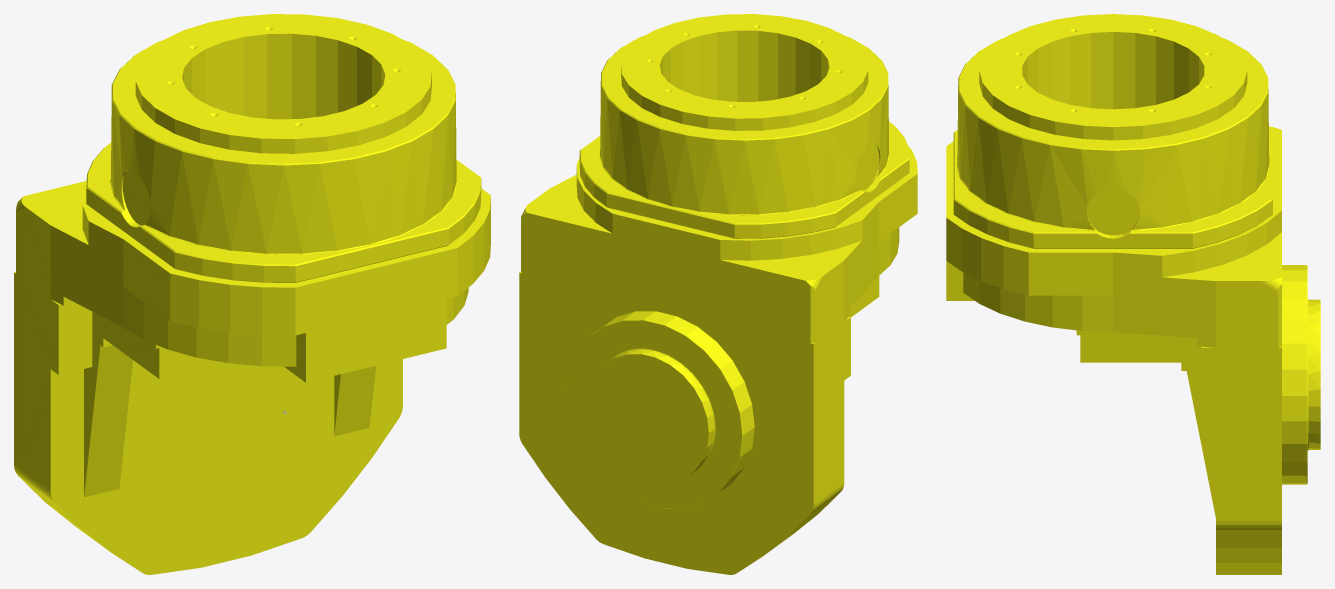
3 renders of one model, left to right at view 1: azimuth 30°, elevation 25°; view 2: azimuth 150°, elevation 25°; view 3: azimuth 270°, elevation 25°, orthographic. The views are drawn at different scales.
Parts seen in each view (by area): view 1: node; view 2: node; view 3: node.
Boxes of the visible parts, bbox=[...] form: node: bbox=[14, 14, 490, 574]; node: bbox=[519, 14, 917, 574]; node: bbox=[946, 14, 1320, 574].
Bounding box in the file's own units: 100 × 143 × 102.
